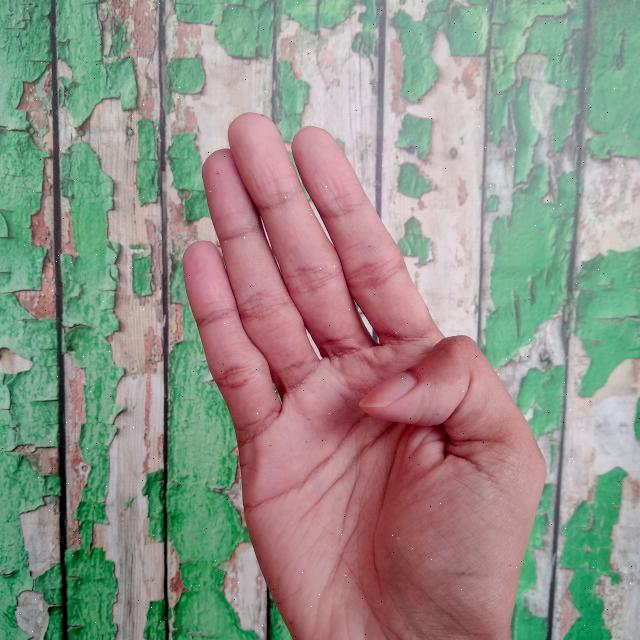B: (179, 107, 548, 640)
